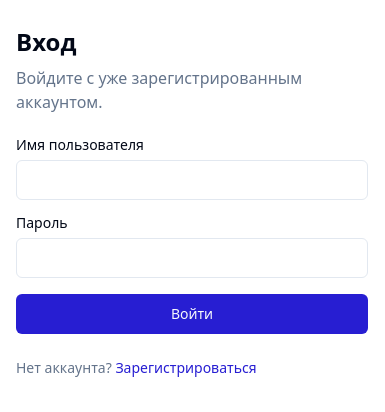
Test: LoginPage (тикет 9.2, FR A3) › неверные креды показывают общее сообщение, не различая логин/пароль
Type "alice" into the field labelled "Имя пользователя" at (192, 180), box 16,160 -> 368,200
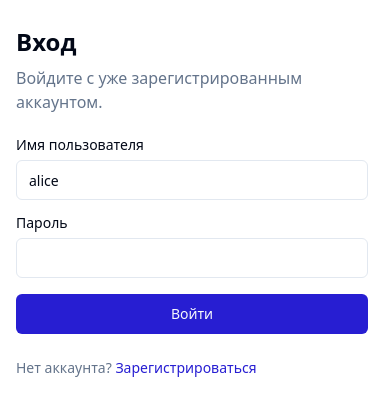
Type "wrong-password" into the password field labelled "Пароль" at (192, 258), box 16,238 -> 368,278
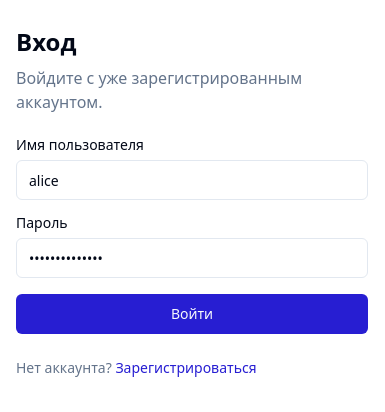
Click the button "Войти" at (192, 314), box 16,294 -> 368,334
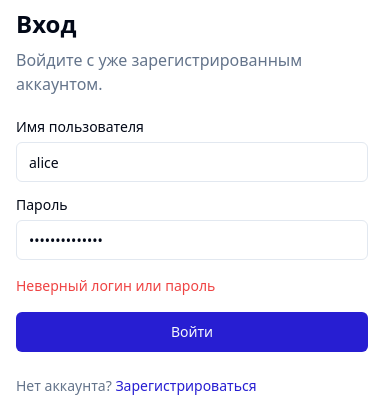
Now the text "Неверный логин или пароль" is shown, box 16,276 -> 215,295
